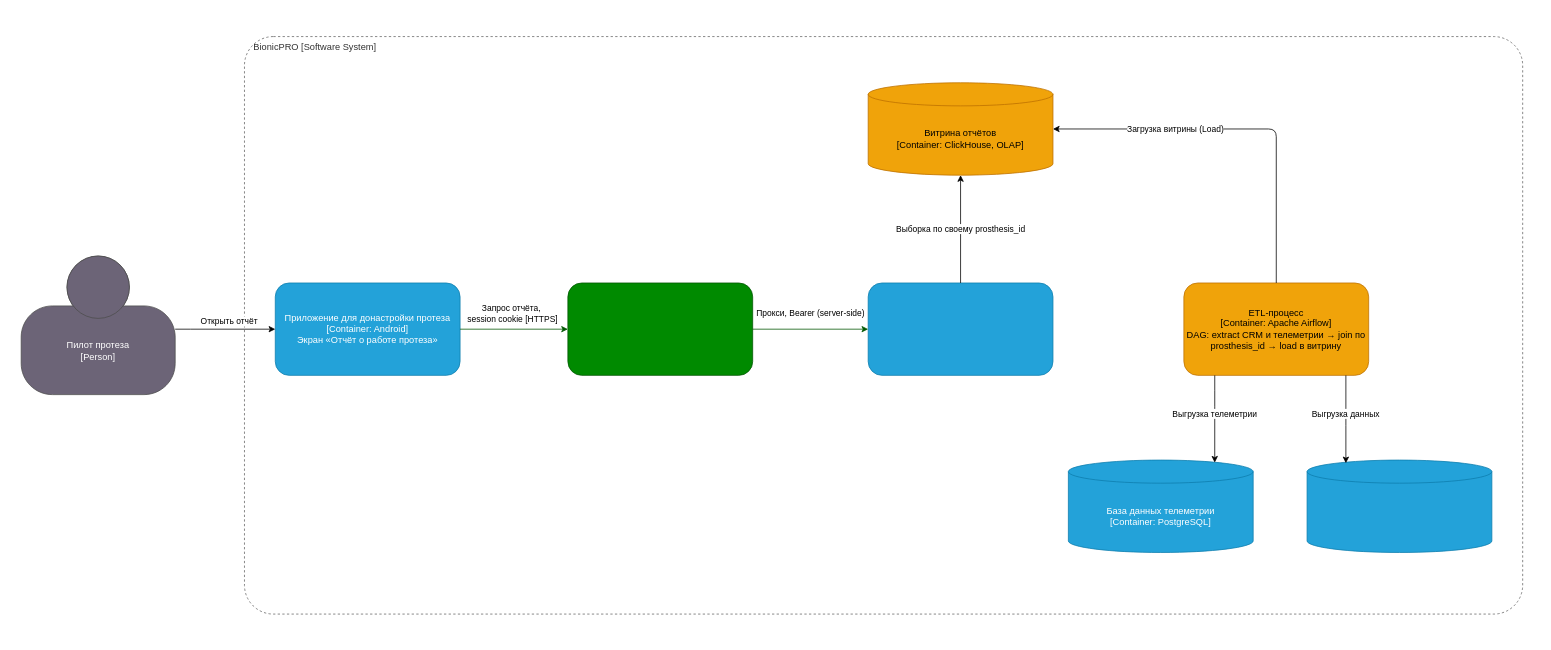
Image size: 1551x650. Some labels were removed from this diagram. Each missing label, with the centre of its shape:
API [Container: Spring Boot]: point 960,328
bionicpro-auth (BFF) [Container: Java, Spring Boot] Session cookie, прокси: point 660,328
CRM DB [Container: Oracle Database 12]: point 1399,505
